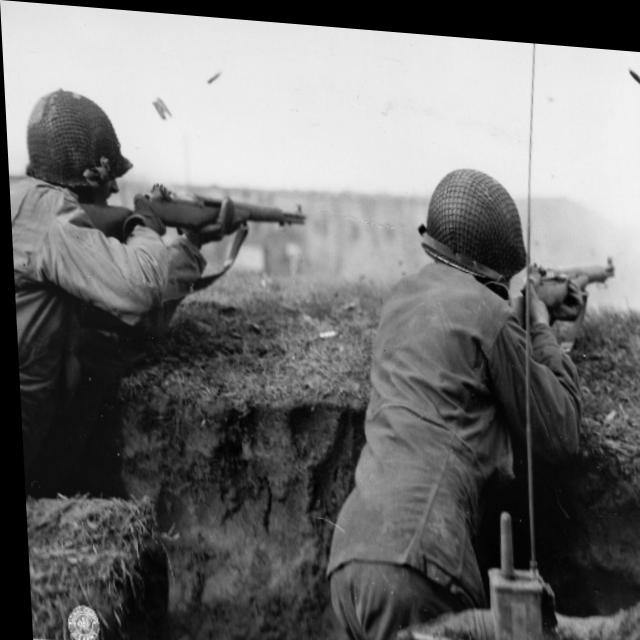other: (297, 145, 586, 640), (3, 77, 177, 476)
